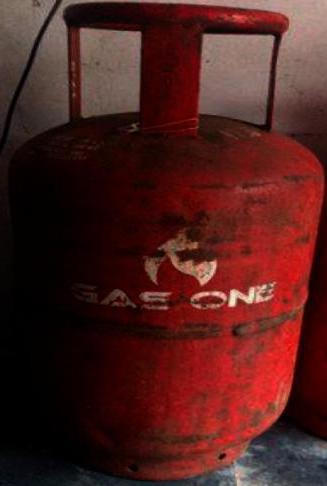cylinder: (1, 0, 327, 486)
